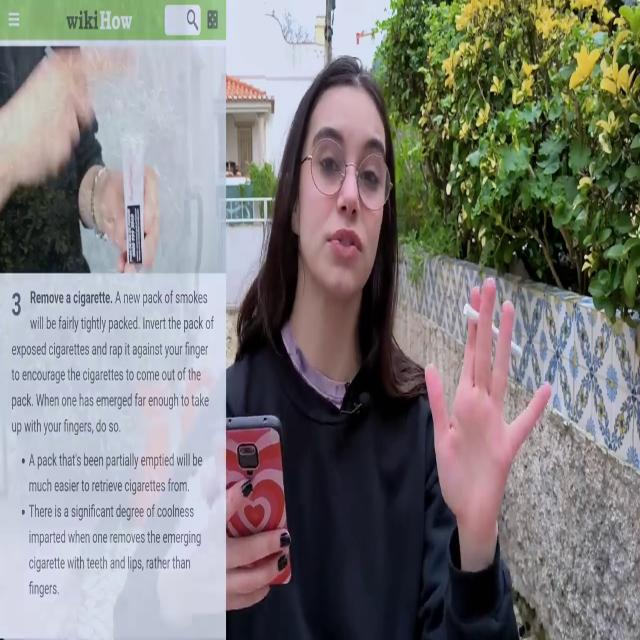Smooking: (459, 296, 530, 367)
